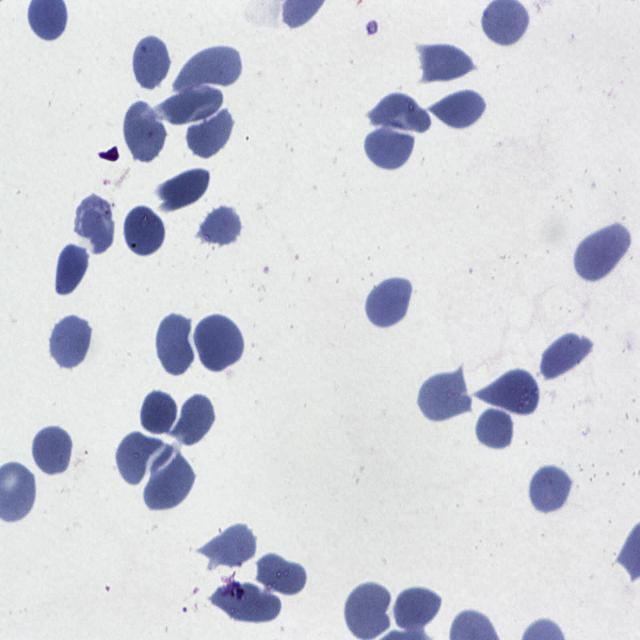red blood cell: (572, 221, 630, 284), (146, 445, 196, 515), (173, 42, 244, 91), (475, 368, 540, 417), (194, 312, 245, 374), (416, 368, 472, 423), (122, 100, 168, 166), (207, 583, 282, 623), (426, 84, 490, 130), (151, 84, 224, 124), (185, 104, 235, 162), (154, 311, 196, 380), (412, 37, 475, 82), (343, 581, 391, 640), (115, 432, 164, 488), (156, 164, 211, 213), (197, 523, 259, 566), (540, 329, 592, 380), (365, 275, 414, 329), (74, 192, 117, 253), (258, 550, 309, 601), (367, 93, 432, 133), (122, 203, 166, 260), (48, 313, 92, 370), (131, 32, 172, 93), (528, 463, 574, 516), (170, 392, 216, 445), (364, 125, 414, 173), (31, 423, 74, 477), (393, 583, 442, 630), (198, 202, 245, 251), (475, 405, 516, 453), (54, 243, 90, 296), (140, 388, 176, 436)
